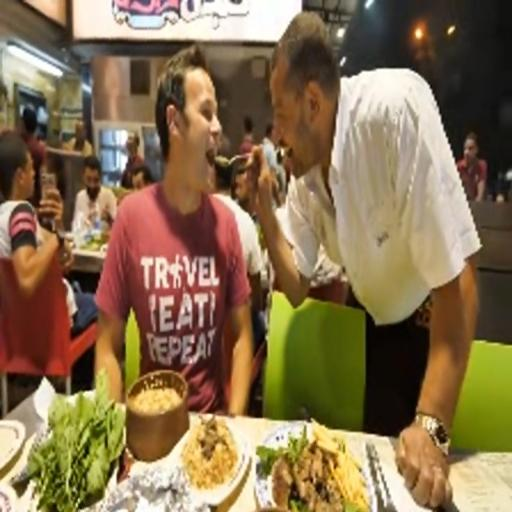nao-violencia: (79, 8, 480, 447)
